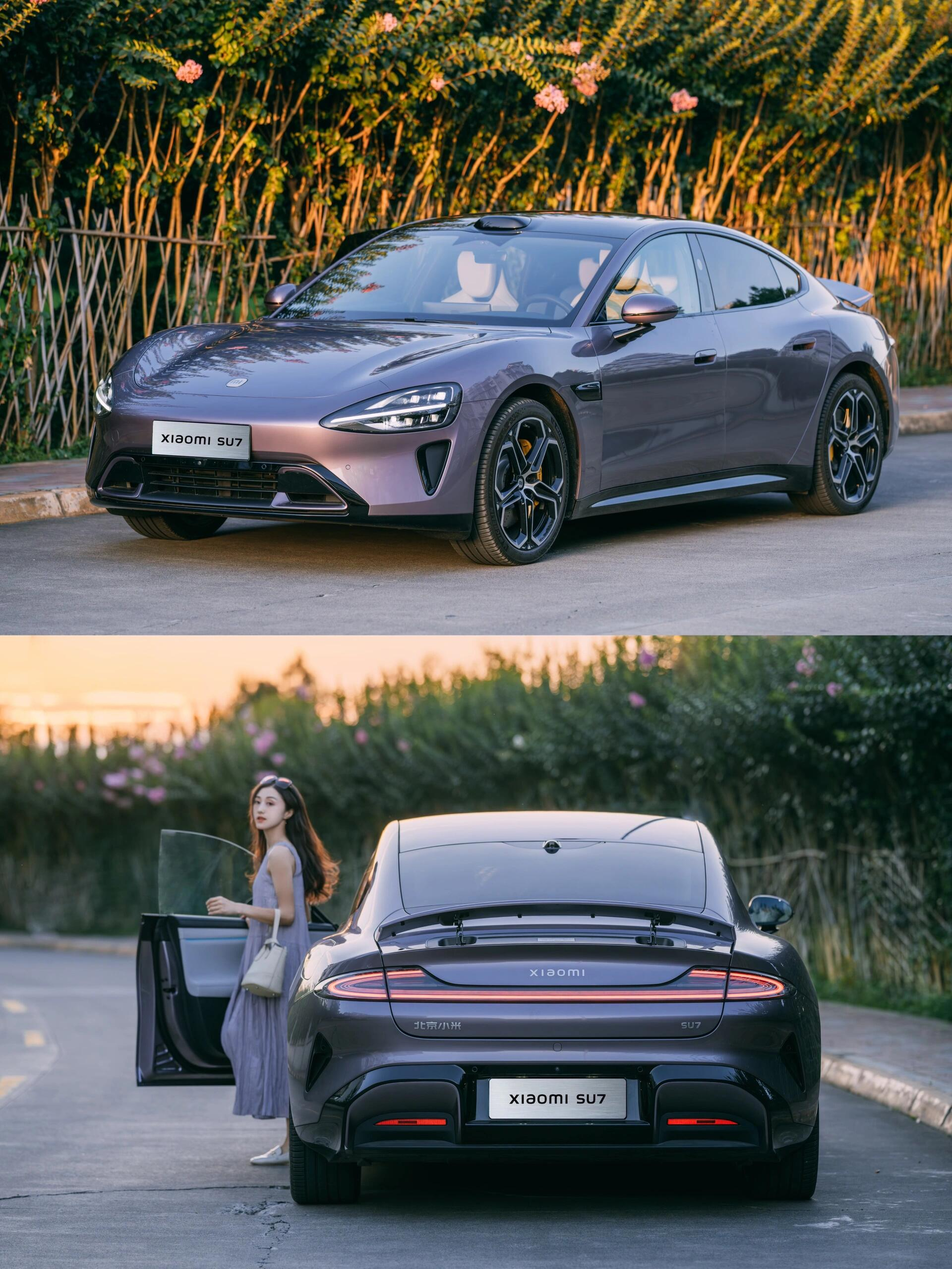su7: (76, 209, 900, 570), (280, 793, 830, 1204)
